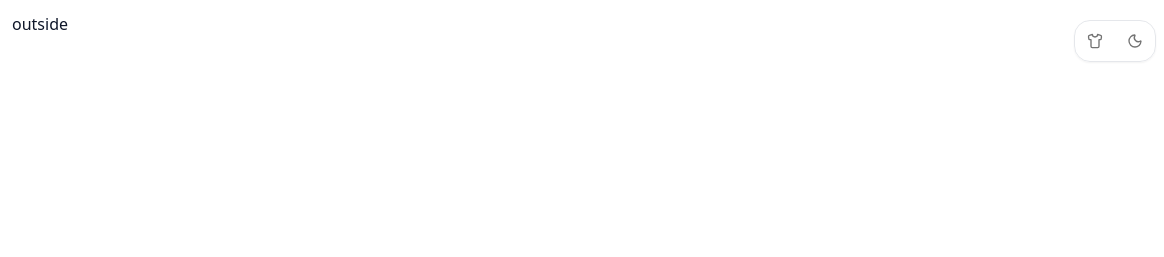
Scenario: SessionThemeControl › closes the style options on Esc and on a press outside
Click the button named "Switch UI Theme Style" at {"x": 1095, "y": 41}, box [1075,21,1115,61]
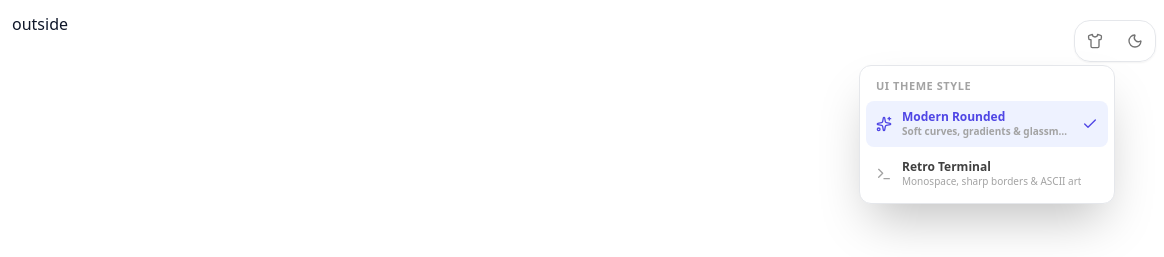
Press Escape
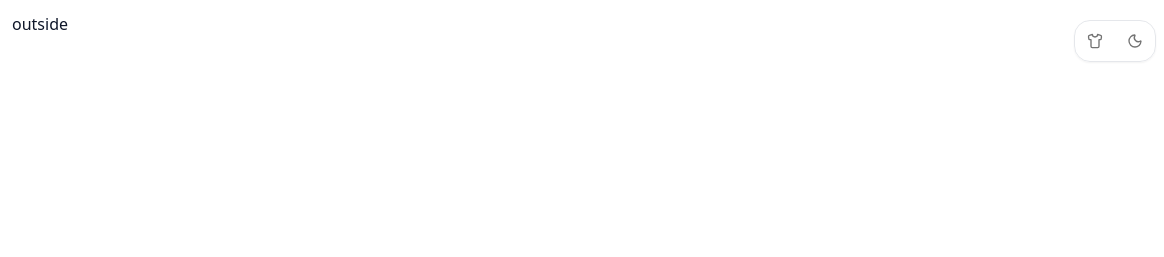
Expected: the text "UI Theme Style" is gone
Click the button named "Switch UI Theme Style" at {"x": 1095, "y": 41}, box [1075,21,1115,61]
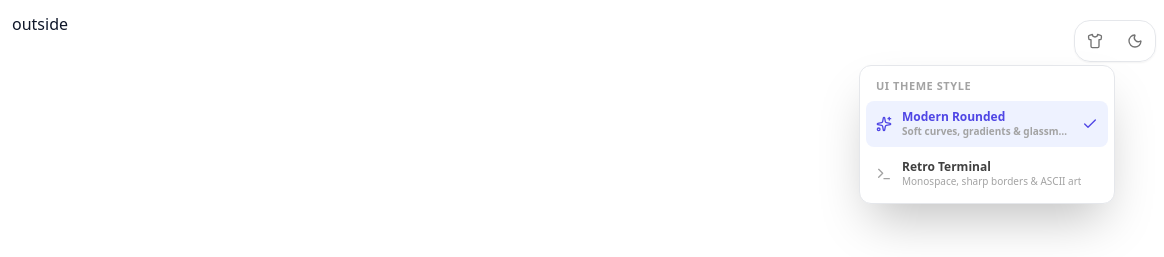
Press the mouse on the text with test id "outside" at {"x": 40, "y": 24}, box [12,13,68,35]
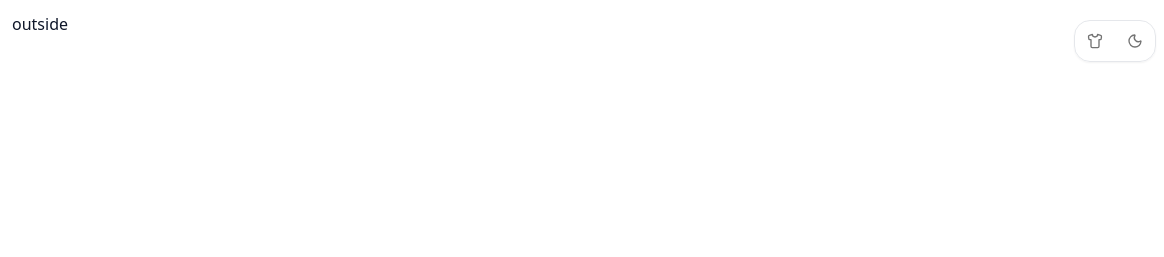
Expected: the text "UI Theme Style" is gone
